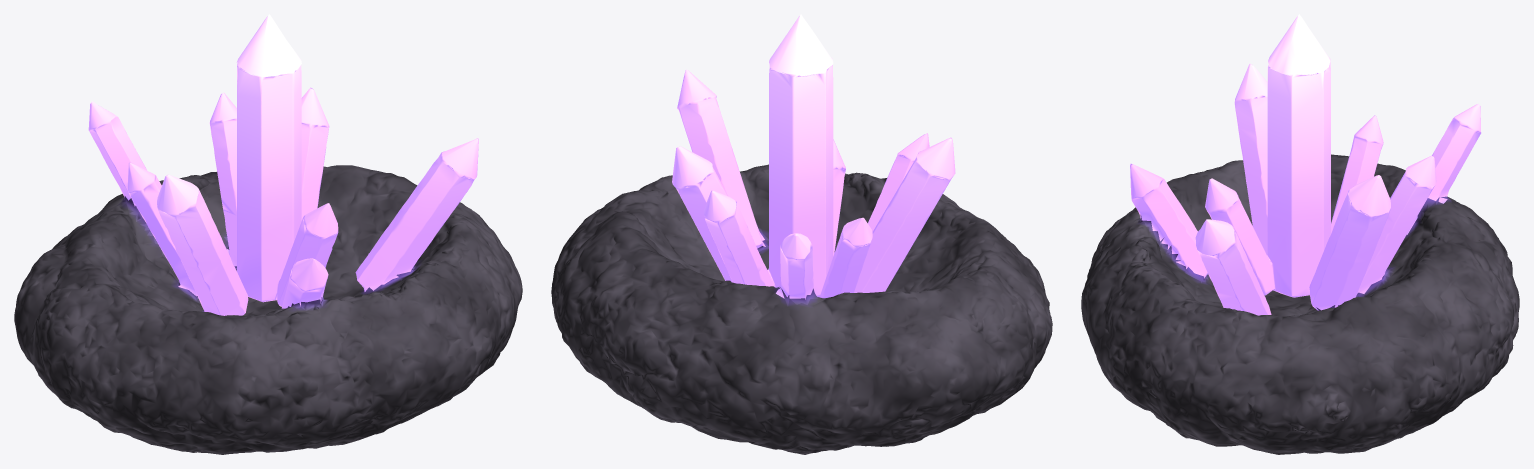
The model's file is crystals.glb.
3 renders of one model, left to right at view 1: azimuth 30°, elevation 25°; view 2: azimuth 150°, elevation 25°; view 3: azimuth 270°, elevation 25°, orthographic.
Parts seen in each view (by area): view 1: robot; view 2: robot; view 3: robot.
Boxes of the visible parts, x1,y1,x2,y2 form: robot: (14, 14, 522, 454); robot: (551, 14, 1052, 454); robot: (1081, 14, 1519, 454).
Bounding box in the file's own units: 2 × 1.7 × 1.7.
